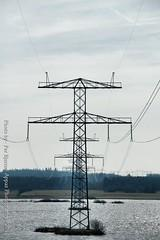power_tower: (30, 71, 133, 235)
